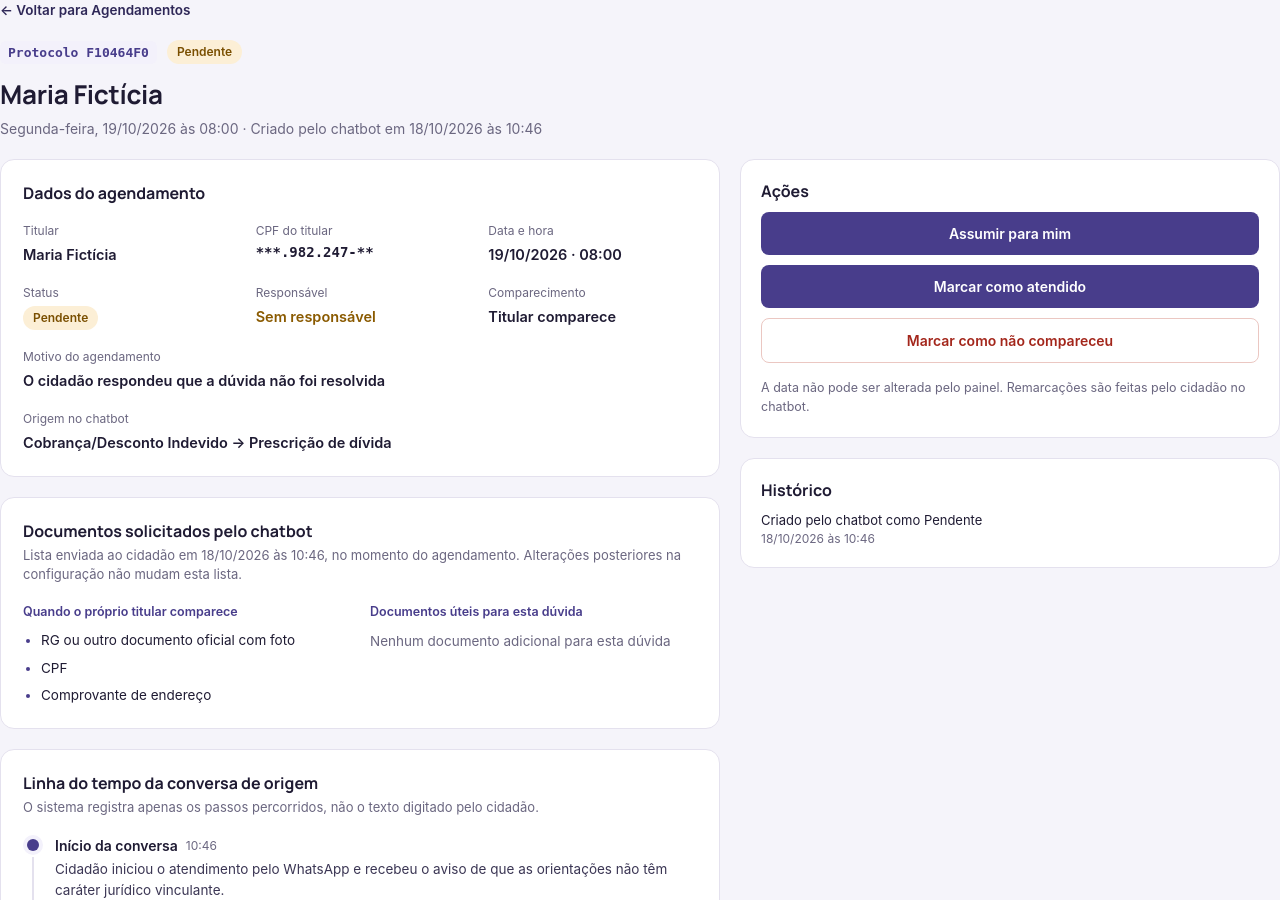
AppointmentDetail.page: envio › Marcar como atendido envia a ação e avisa o sucesso
expect the heading "Maria Fictícia" is shown: met, box [0,76,163,112]
Click the button "Marcar como atendido" at (1010, 287), box [761,265,1259,308]
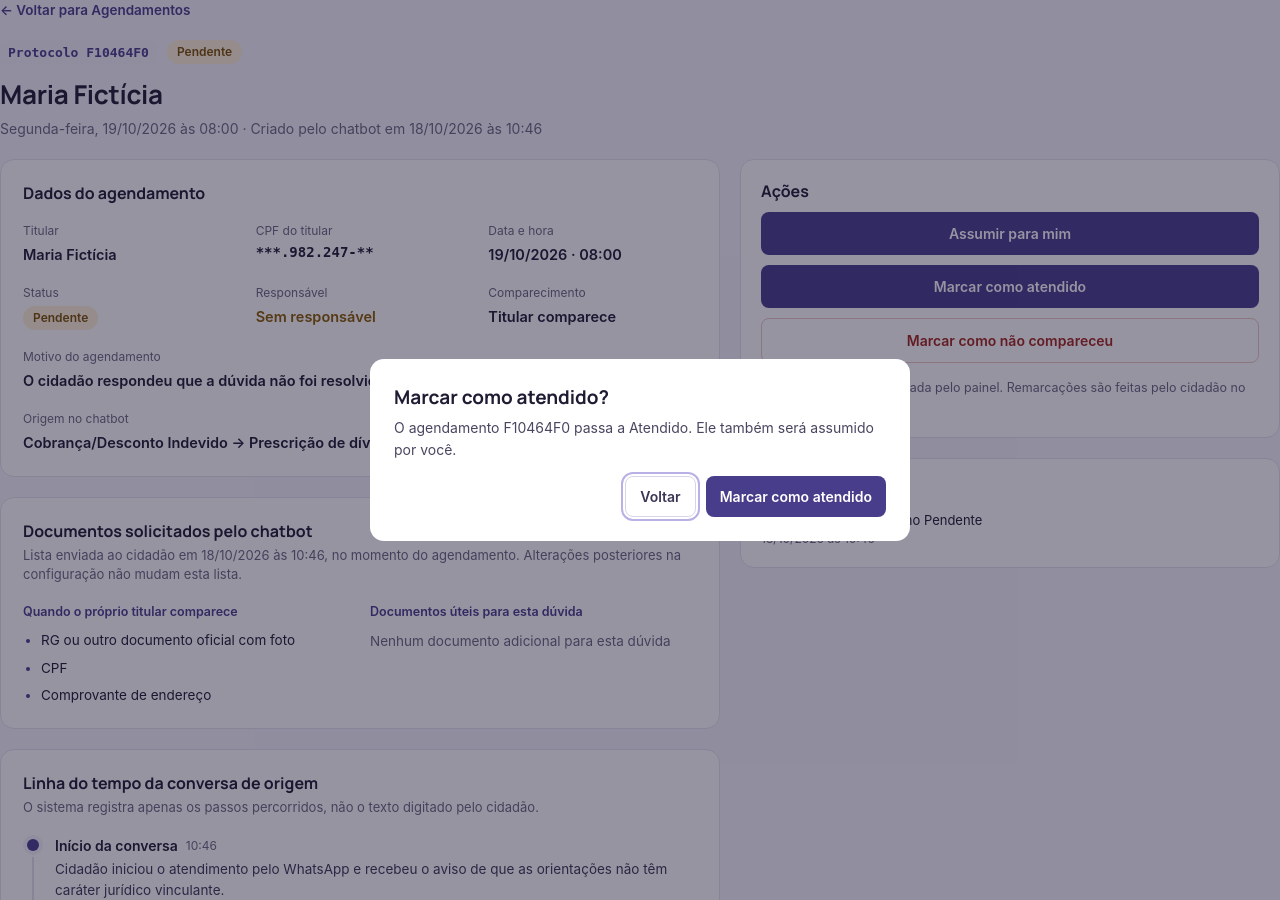
Click the button "Marcar como atendido" at (796, 497), box [706,476,886,517]
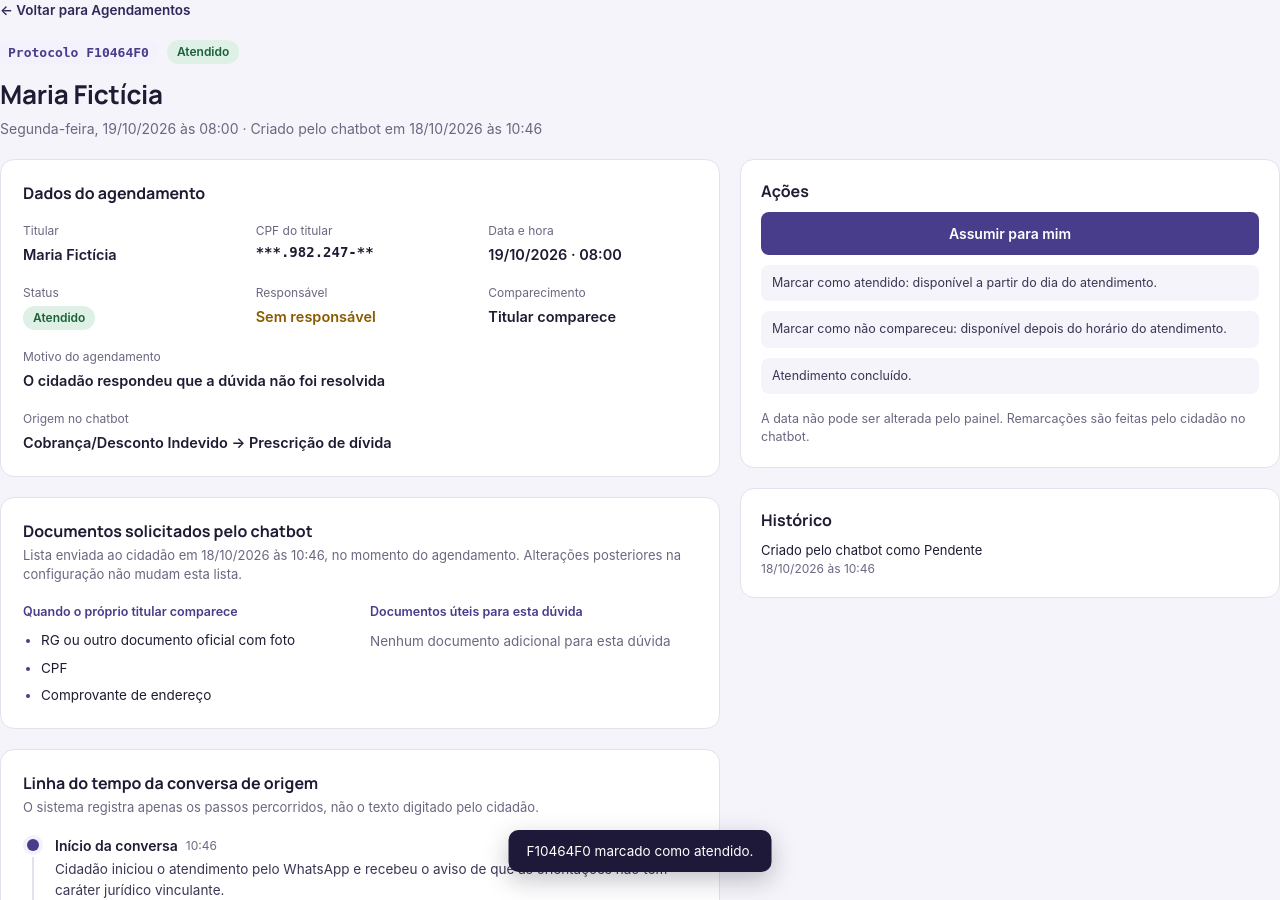
expect the text "F10464F0 marcado como atendido." is shown: met, box [508,830,772,872]
